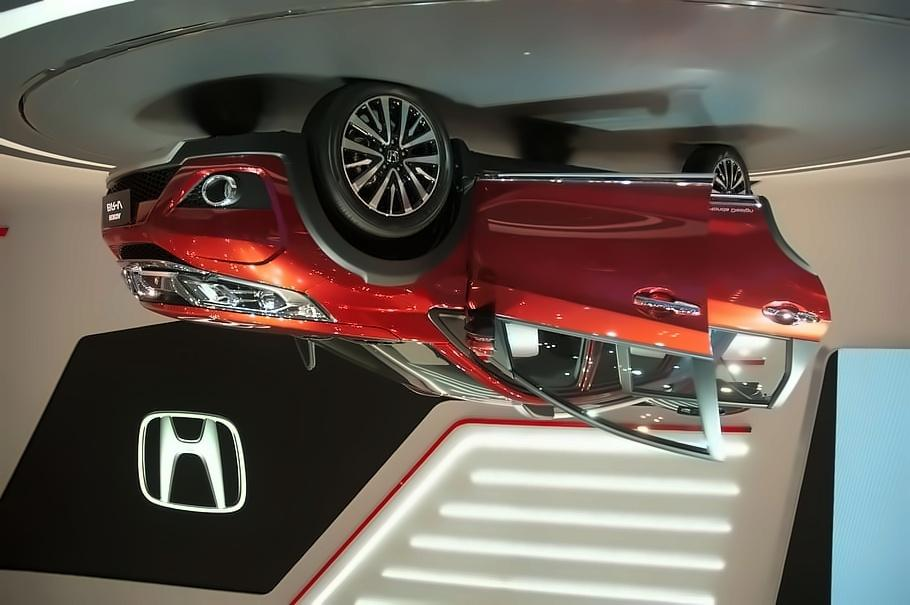Driver-s door - -F-R-: (470, 157, 725, 468)
Fender - -F-R-: (273, 223, 488, 341)
Front bumper: (101, 126, 312, 267)
Headlight - -R-: (122, 258, 333, 325)
Side bumper - -R-: (440, 159, 755, 228)
Side mirror - -R-: (460, 299, 498, 363)
